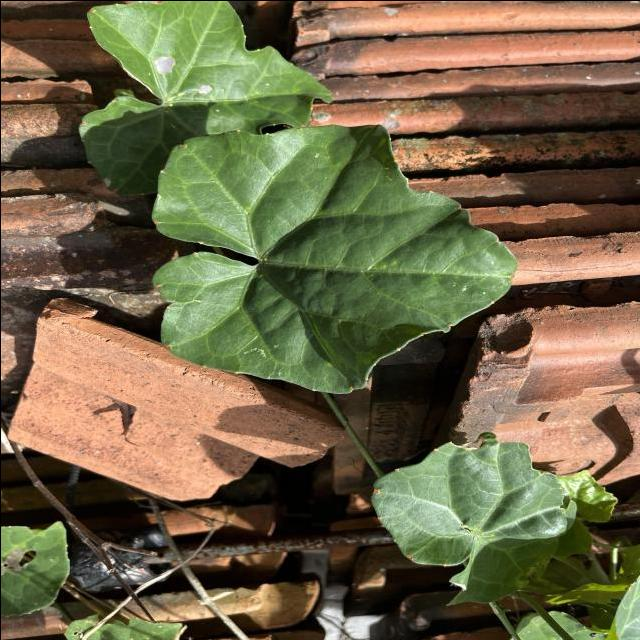Coccinia grandis: (148, 120, 520, 396)
